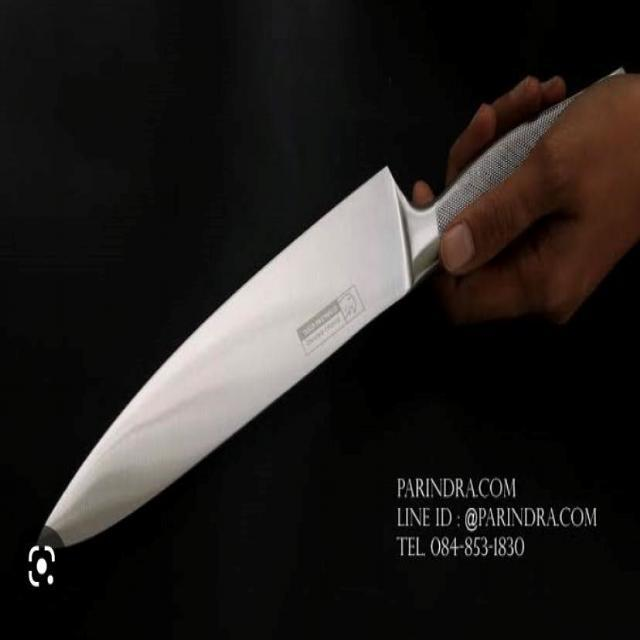Knife: (77, 68, 640, 538)
